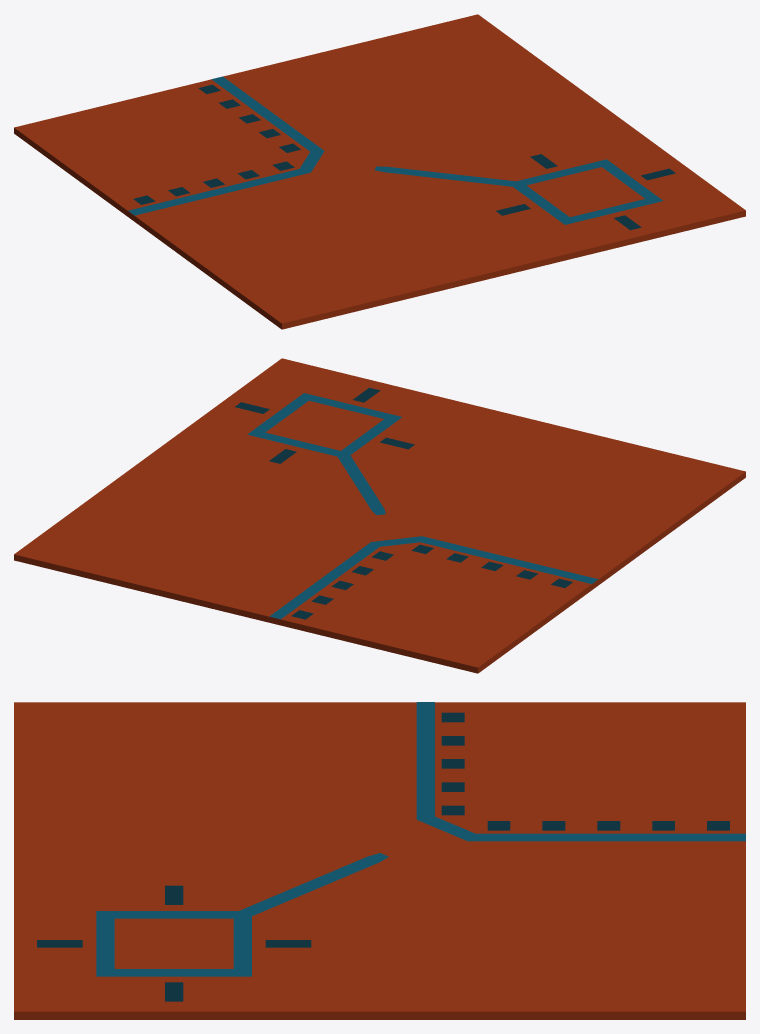
Rendered from Tile_3-1D.fbx.
3 views of the same model, one above another, from view 1: azimuth 30°, elevation 25°; view 2: azimuth 150°, elevation 25°; view 3: azimuth 270°, elevation 25° (orthographic). The views are drawn at different scales.
Parts seen in each view (by area): view 1: Tile_3-1D; view 2: Tile_3-1D; view 3: Tile_3-1D.
Boxes of the visible parts, <box> form: Tile_3-1D: <box>14,14,745,329</box>; Tile_3-1D: <box>14,358,745,673</box>; Tile_3-1D: <box>14,702,745,1019</box>.
Size of the model in its own units: 4 by 4 by 0.051.
